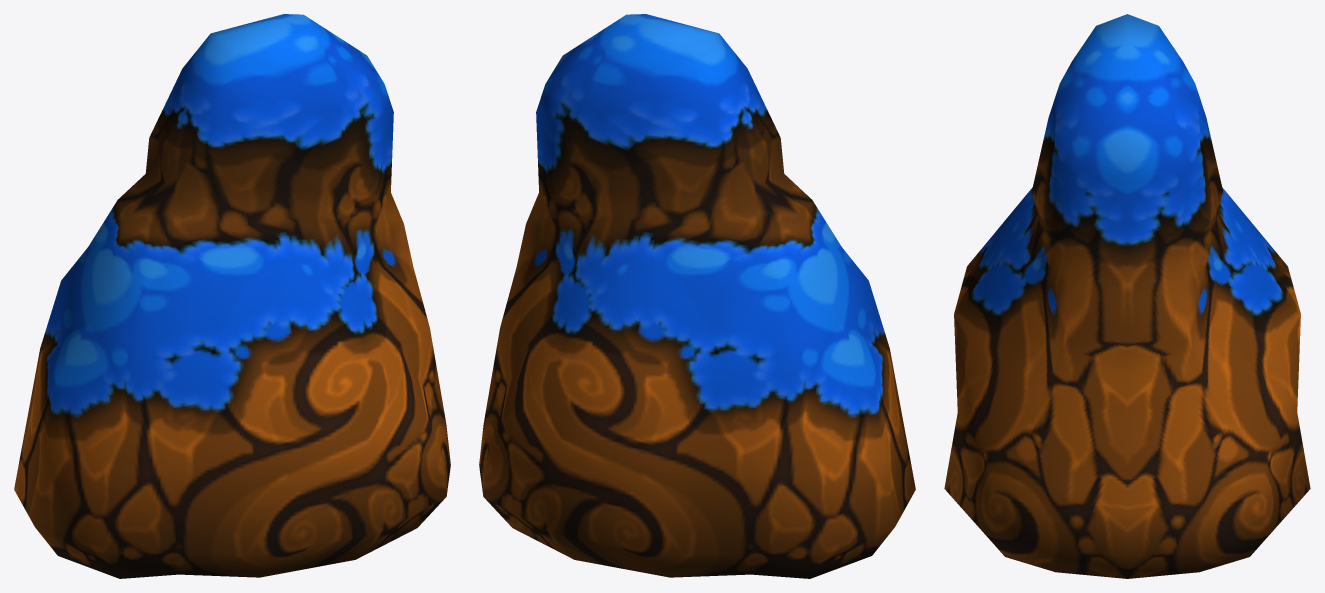
File: Blue_Rock_03.FBX
The picture shows the model from 3 angles, left to right: view 1: azimuth 30°, elevation 25°; view 2: azimuth 150°, elevation 25°; view 3: azimuth 270°, elevation 25°; orthographic projection.
Visible parts, largest first — view 1: Blue_Rock_03; view 2: Blue_Rock_03; view 3: Blue_Rock_03.
Boxes of the visible parts, x1=… form: Blue_Rock_03: x1=14, y1=14, x2=450, y2=578; Blue_Rock_03: x1=479, y1=14, x2=915, y2=578; Blue_Rock_03: x1=944, y1=14, x2=1310, y2=578.
Bounding box in the file's own units: 340 × 402 × 278.
